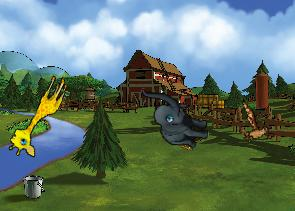eagle: (225, 98, 283, 153)
elephant: (138, 88, 211, 148)
giraffe: (4, 68, 71, 162)
